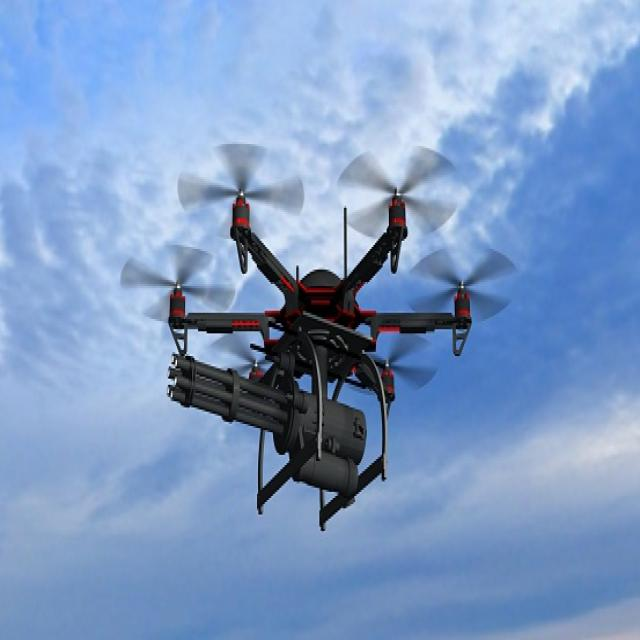drone: (105, 108, 497, 545)
